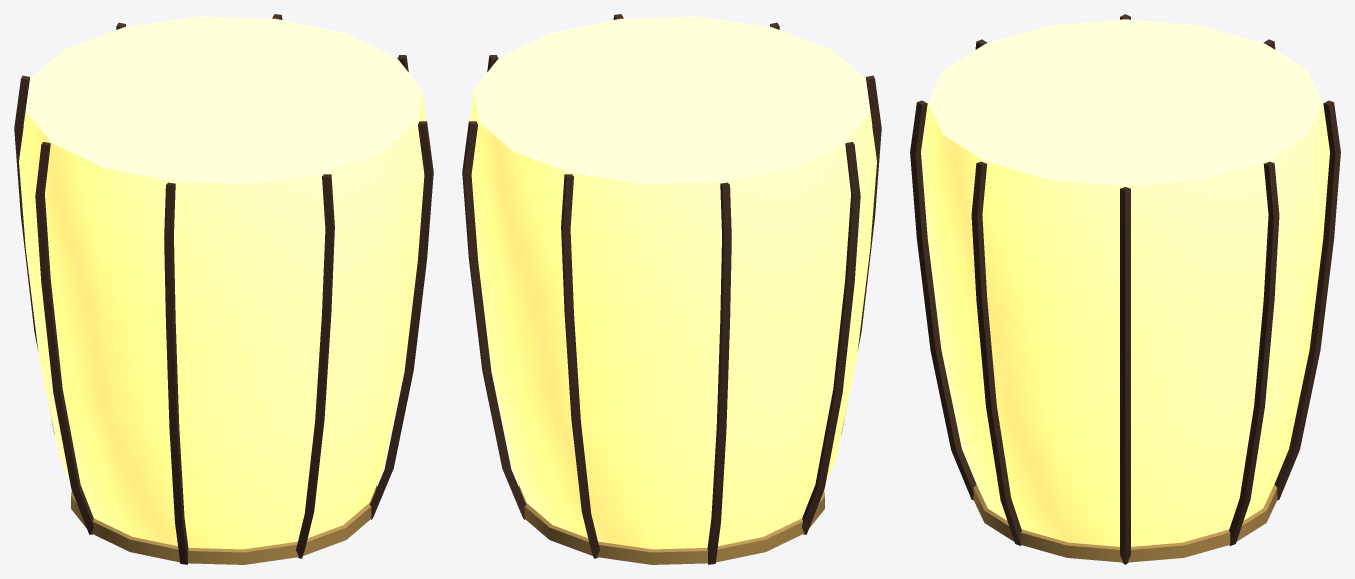
File: sky_lantern.glb
The picture shows the model from 3 angles, left to right: view 1: azimuth 30°, elevation 25°; view 2: azimuth 150°, elevation 25°; view 3: azimuth 270°, elevation 25°; orthographic projection.
Visible parts, largest first — view 1: sky_lantern; view 2: sky_lantern; view 3: sky_lantern.
Boxes of the visible parts, bbox=[...] form: sky_lantern: bbox=[14, 14, 433, 564]; sky_lantern: bbox=[462, 14, 881, 564]; sky_lantern: bbox=[910, 14, 1340, 564].
Bounding box in the file's own units: 0.316 × 0.3505 × 0.316.
